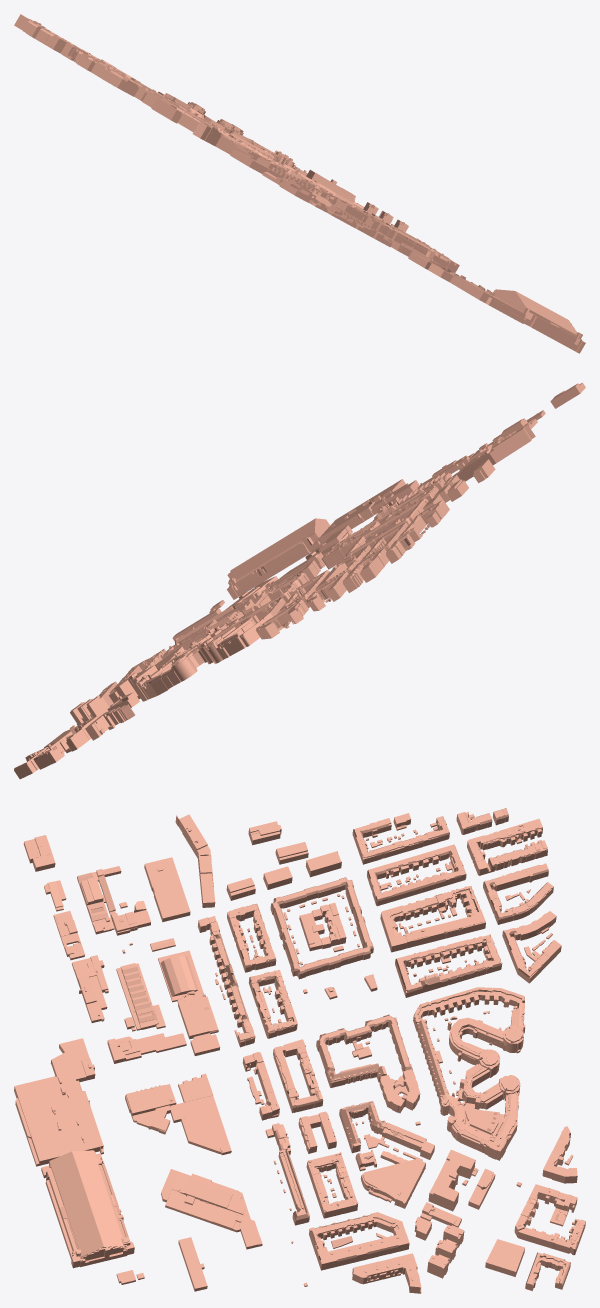
The picture shows the model from 3 angles, top to bottom: view 1: azimuth 30°, elevation 25°; view 2: azimuth 150°, elevation 25°; view 3: azimuth 270°, elevation 25°; orthographic projection. The views are drawn at different scales.
Size of the model in its own units: 1.66e+07 by 1.28e+07 by 2.13e+07.
